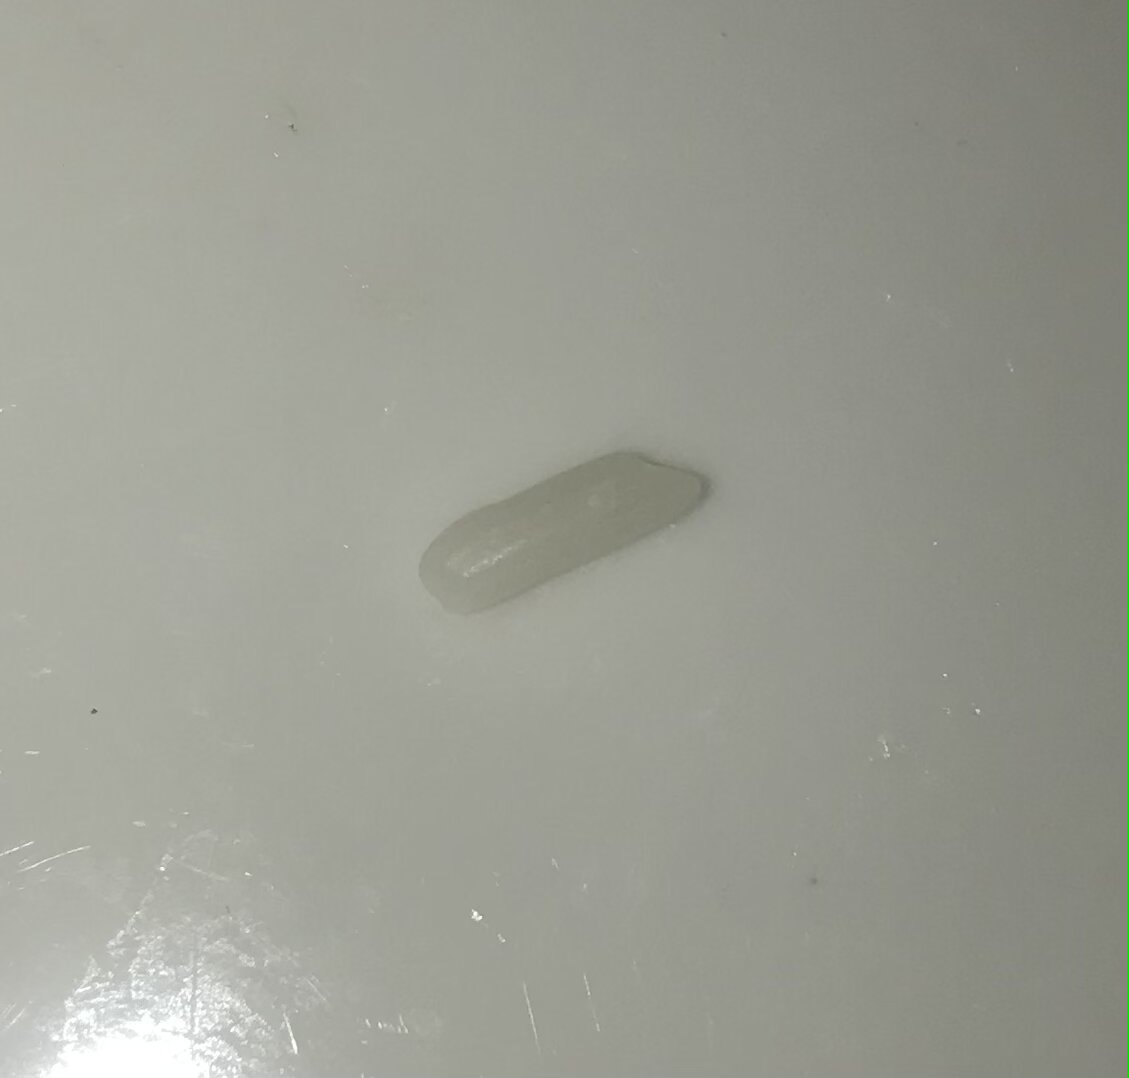Gao Lai Sua: (411, 437, 706, 615)
